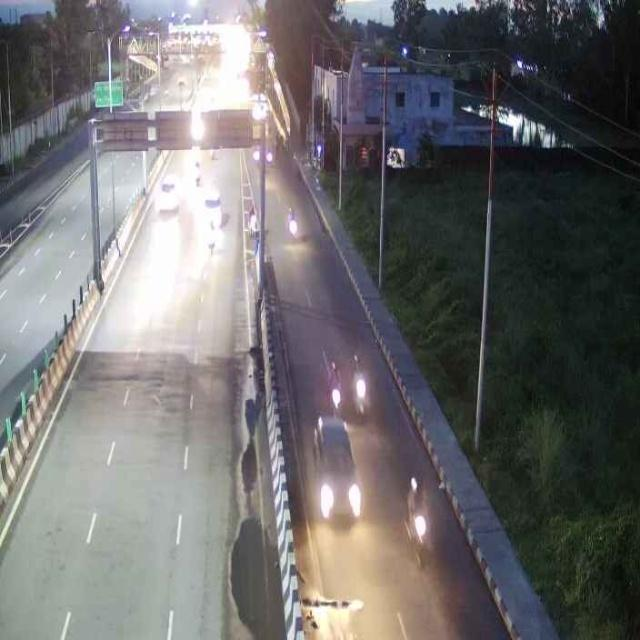car: (305, 414, 363, 519)
